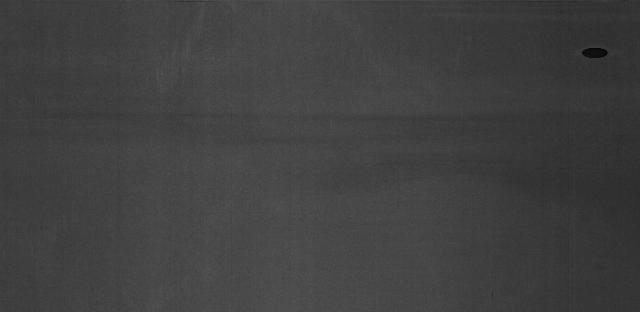punching_hole: (579, 44, 612, 61)
